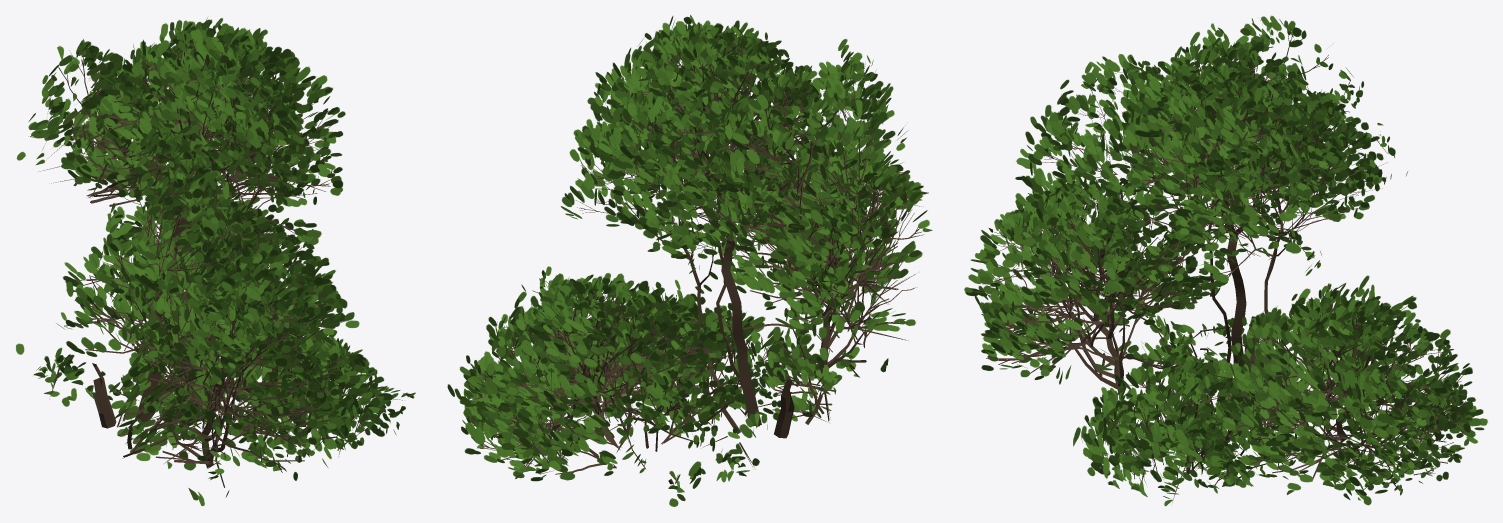
3 renders of one model, left to right at view 1: azimuth 30°, elevation 25°; view 2: azimuth 150°, elevation 25°; view 3: azimuth 270°, elevation 25°, orthographic. The views are drawn at different scales.
Parts seen in each view (by area): view 1: oak 01.001_trunk_Mat.001_0.203; view 2: oak 01.001_trunk_Mat.001_0.203; view 3: oak 01.001_trunk_Mat.001_0.203.
Boxes of the visible parts, x1,y1,x2,y2 form: oak 01.001_trunk_Mat.001_0.203: [16, 17, 415, 505]; oak 01.001_trunk_Mat.001_0.203: [447, 15, 932, 506]; oak 01.001_trunk_Mat.001_0.203: [964, 15, 1487, 506].
Bounding box in the file's own units: 3.18 × 3.94 × 4.76.
2 materials, 1 textured.
